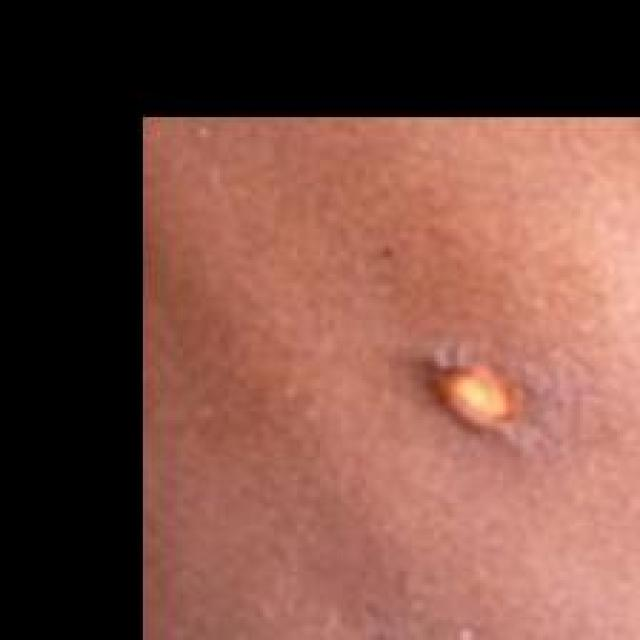monkeypox: (231, 208, 637, 640)
